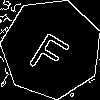F: (26, 23, 76, 78)
